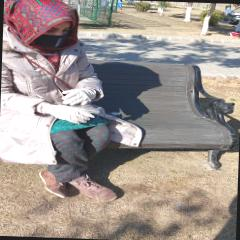gloved: (45, 104, 93, 124), (60, 86, 96, 106)
